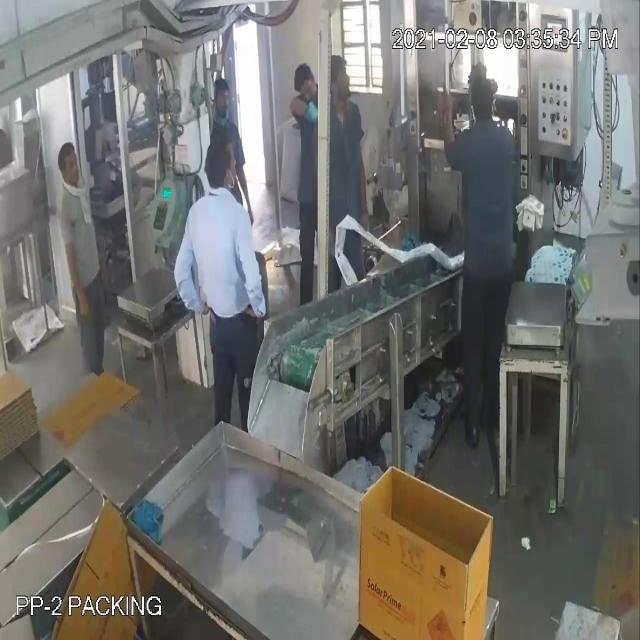gloves: (283, 92, 327, 132)
no-gloves: (231, 212, 280, 332), (168, 219, 212, 327), (425, 80, 465, 174), (58, 225, 92, 322), (354, 130, 378, 253), (86, 218, 118, 298)
